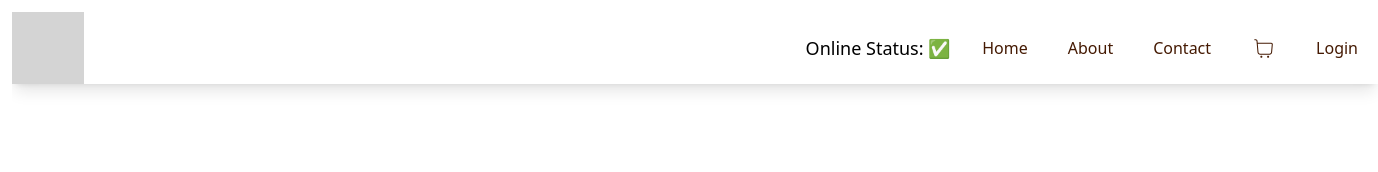
Scenario: Should load change Login button to Logout on click
Click the link "Login". click: (1337, 48)
box: [1316, 36, 1358, 58]
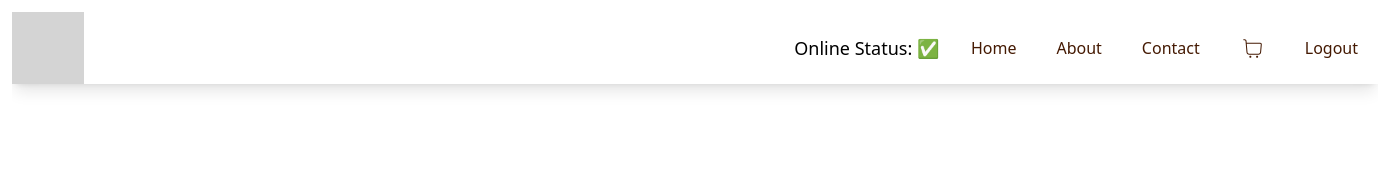
Now the link "Logout" is shown, box [1305, 36, 1358, 58]
